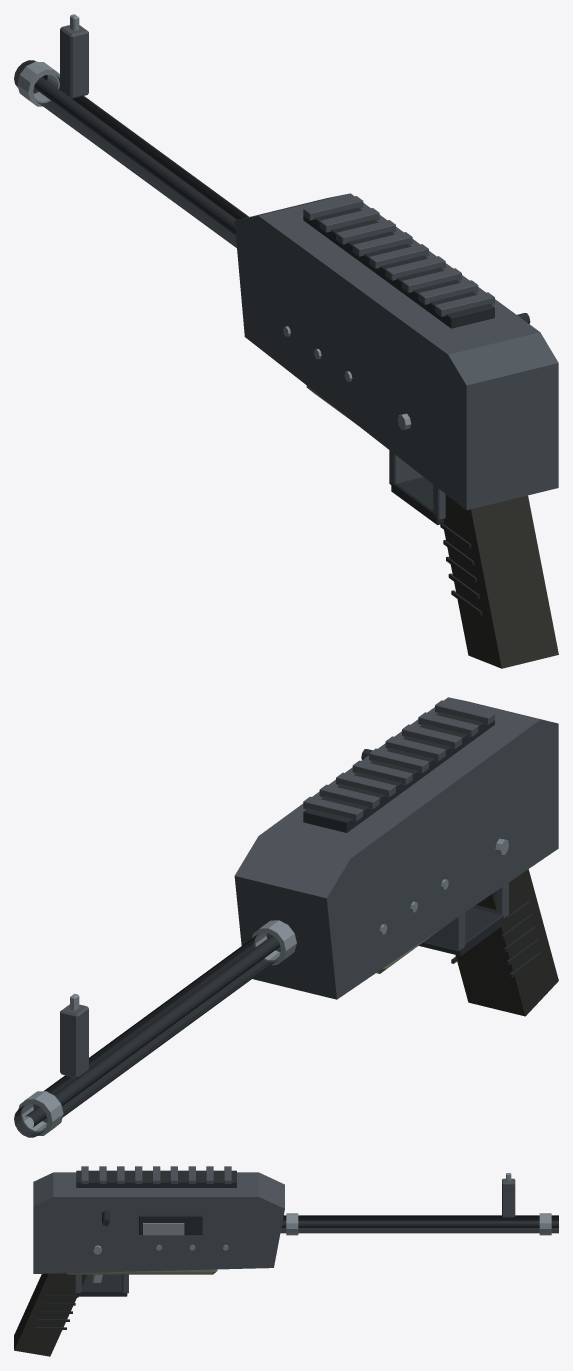
File: weapon_badger556.glb
The picture shows the model from 3 angles, top to bottom: view 1: azimuth 30°, elevation 25°; view 2: azimuth 150°, elevation 25°; view 3: azimuth 270°, elevation 25°; orthographic projection. The views are drawn at different scales.
Parts seen in each view (by area): view 1: Geometry_weapon_badger556; view 2: Geometry_weapon_badger556; view 3: Geometry_weapon_badger556.
Part boxes in pixels (x1,y1,x2,y2): Geometry_weapon_badger556: (14,14,558,668); Geometry_weapon_badger556: (14,697,558,1137); Geometry_weapon_badger556: (14,1166,558,1356).
Size of the model in its own units: 0.1123 by 0.262 by 0.736.
